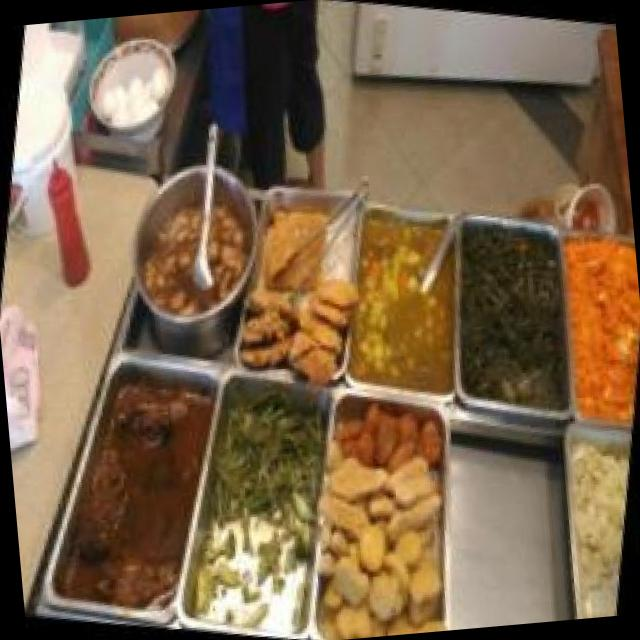carrot_eggs: (539, 229, 640, 427)
chicken_nuggets: (304, 530, 450, 640)
chinese_cabbage: (559, 441, 640, 572)
curry: (330, 194, 477, 403)
water_spinach: (206, 388, 334, 522)
